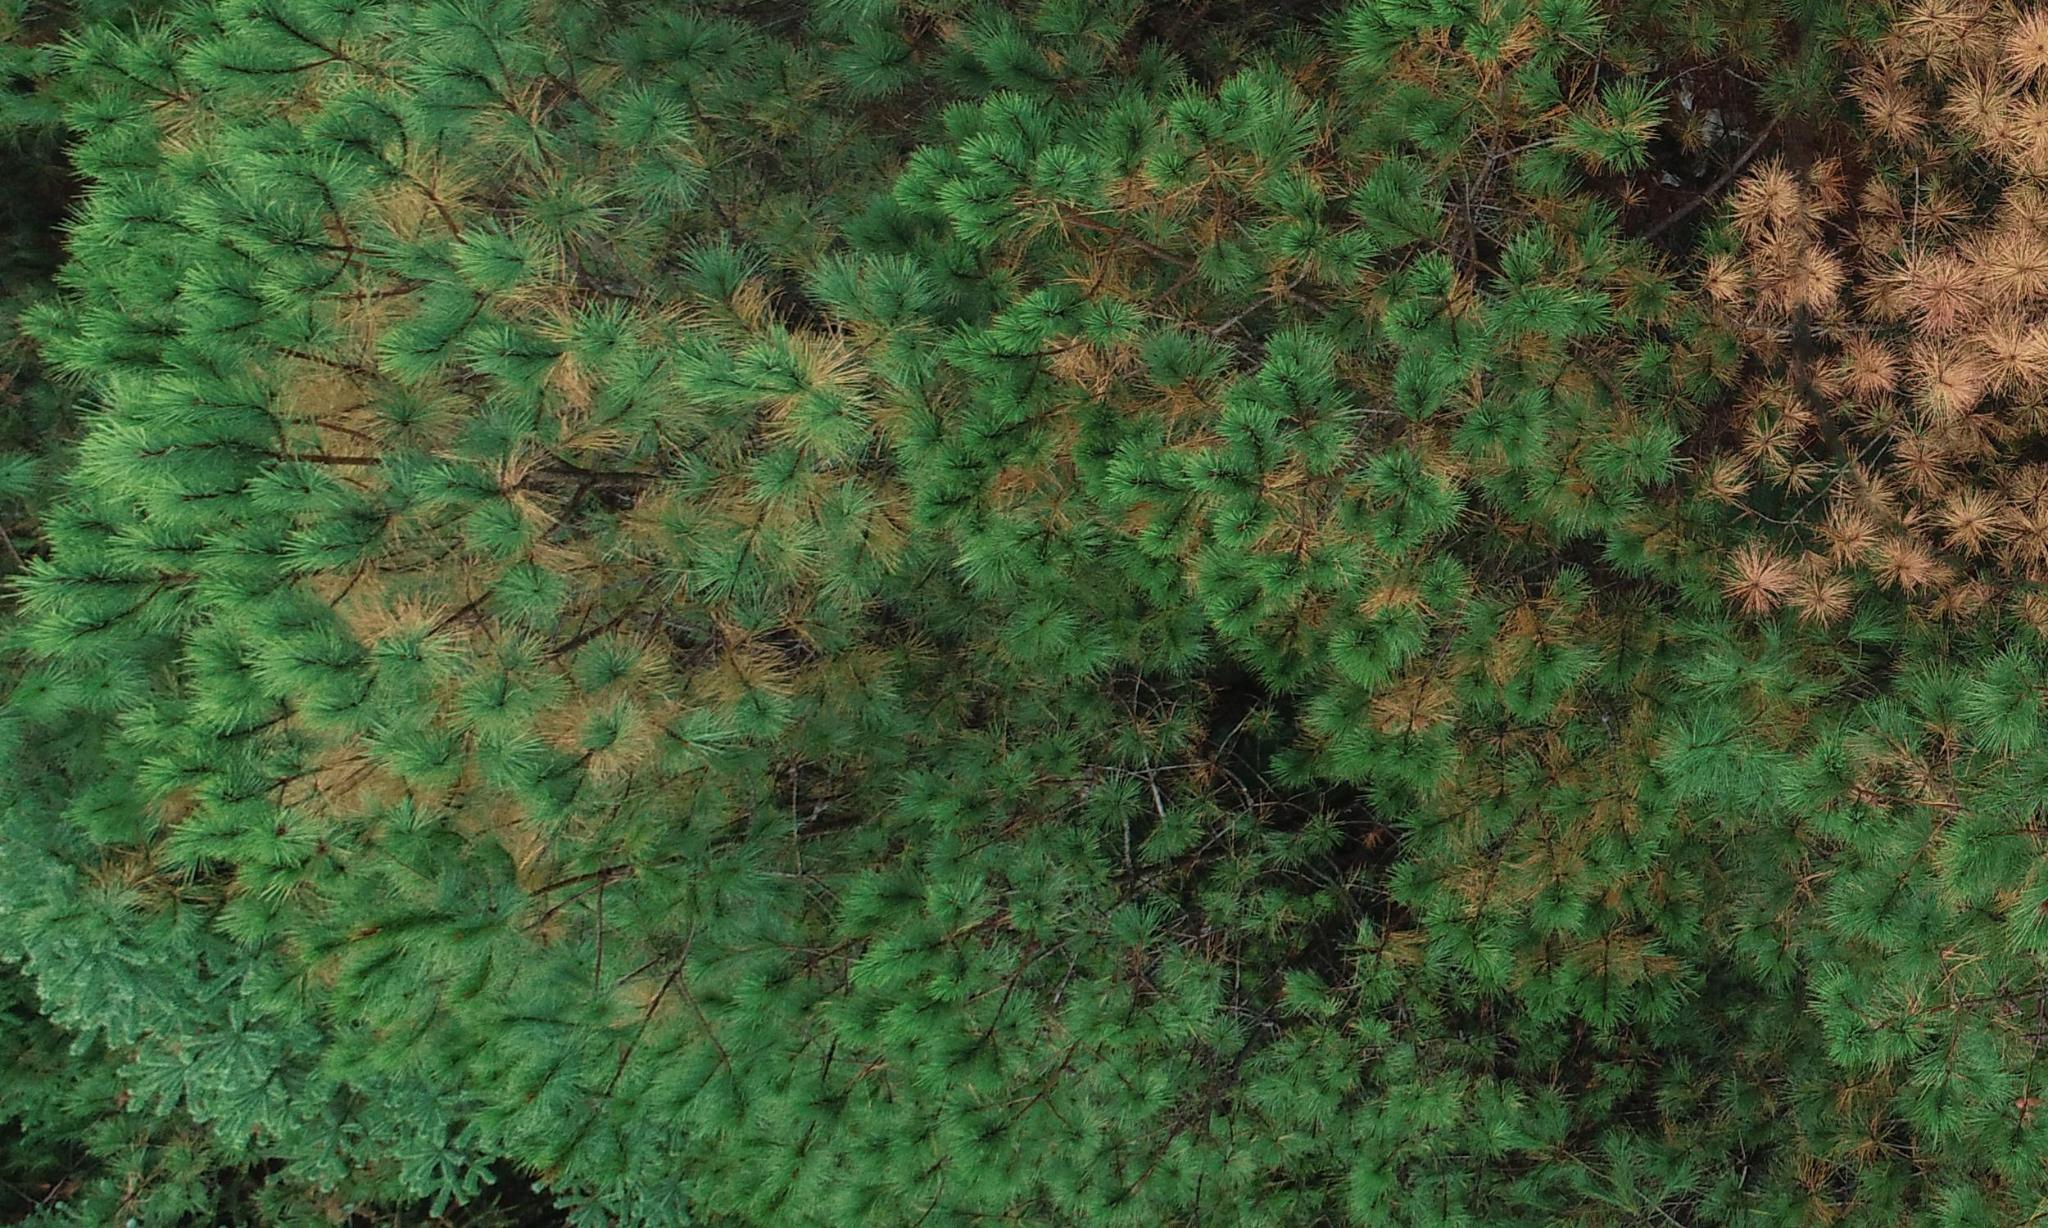heavy: (1666, 3, 2048, 661)
light: (37, 85, 936, 848), (993, 95, 1642, 861)
